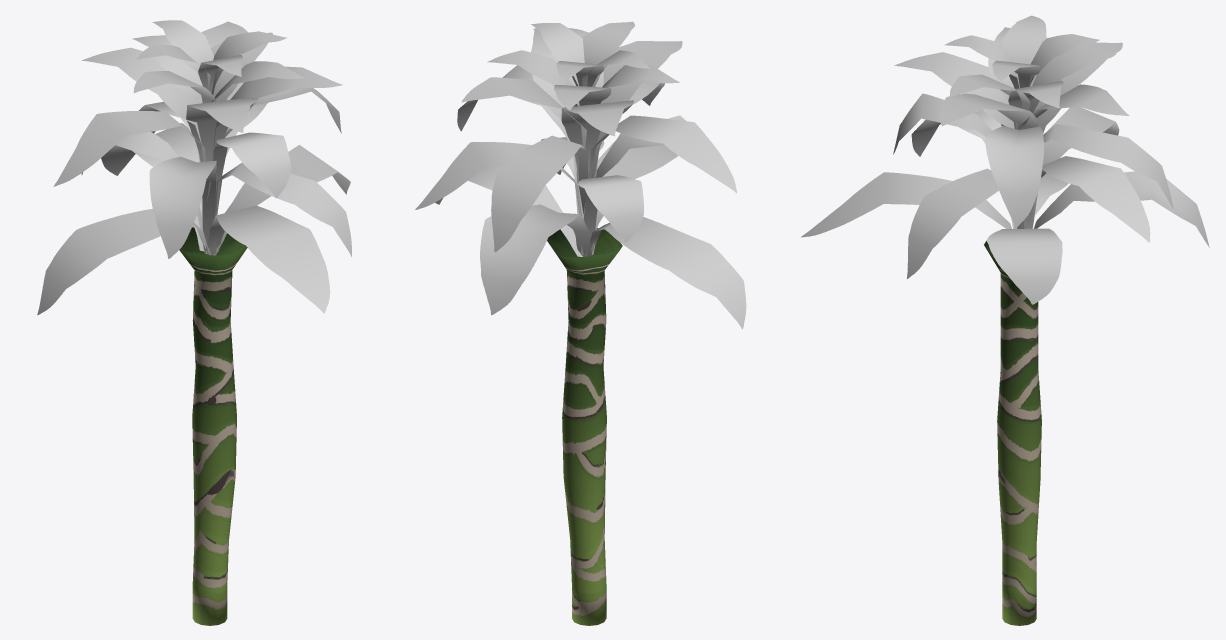
Rendered from Model_Bush01_Large.fbx.
The picture shows the model from 3 angles, left to right: view 1: azimuth 30°, elevation 25°; view 2: azimuth 150°, elevation 25°; view 3: azimuth 270°, elevation 25°; orthographic projection.
Visible parts, largest first — view 1: BigArb_Leaf, BigArb_Trunk; view 2: BigArb_Leaf, BigArb_Trunk; view 3: BigArb_Leaf, BigArb_Trunk.
Part boxes in pixels (bbox=[...]): BigArb_Leaf: bbox=[37, 20, 351, 315]; BigArb_Trunk: bbox=[179, 227, 247, 625]; BigArb_Leaf: bbox=[415, 21, 746, 329]; BigArb_Trunk: bbox=[547, 228, 622, 625]; BigArb_Leaf: bbox=[801, 15, 1209, 304]; BigArb_Trunk: bbox=[984, 241, 1041, 625].
Size of the model in its own units: 0.9638 by 1.7 by 1.11.
